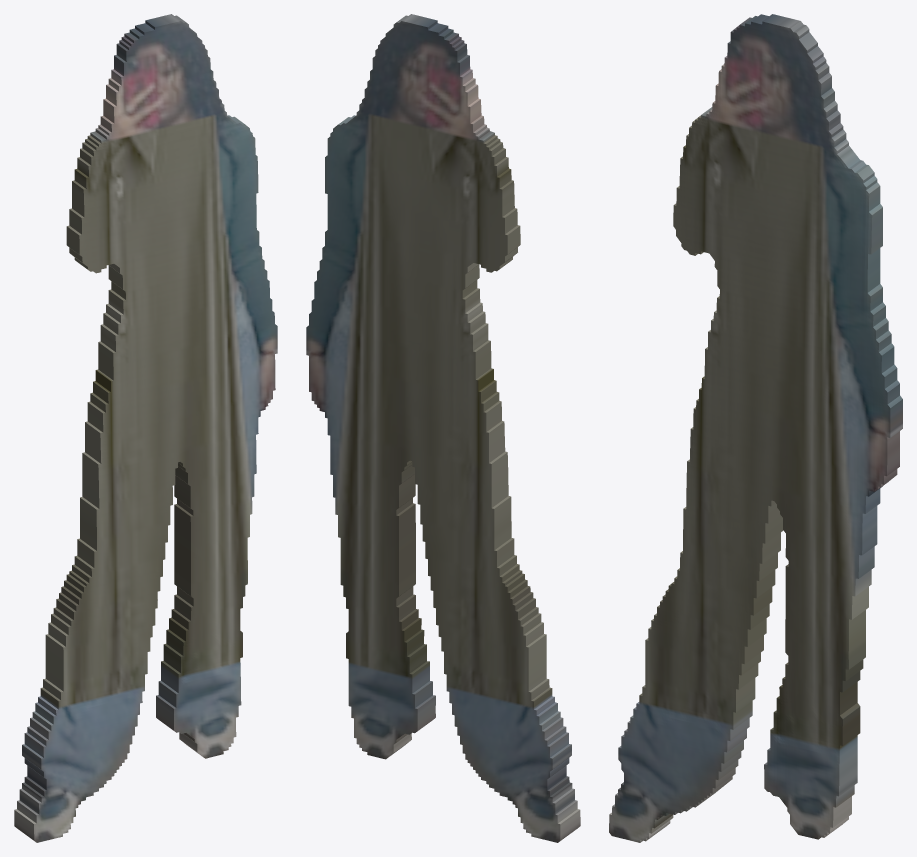
The model's file is avatar_20260224_094849.glb.
3 renders of one model, left to right at view 1: azimuth 30°, elevation 25°; view 2: azimuth 150°, elevation 25°; view 3: azimuth 330°, elevation 25°, orthographic. The views are drawn at different scales.
Parts seen in each view (by area): view 1: world; view 2: world; view 3: world.
Boxes of the visible parts, left/top/right/bottom form: world: left=14, top=14, right=277, bottom=842; world: left=306, top=14, right=580, bottom=842; world: left=609, top=14, right=902, bottom=842.
Size of the model in its own units: 18.24 by 53.77 by 2.51.
